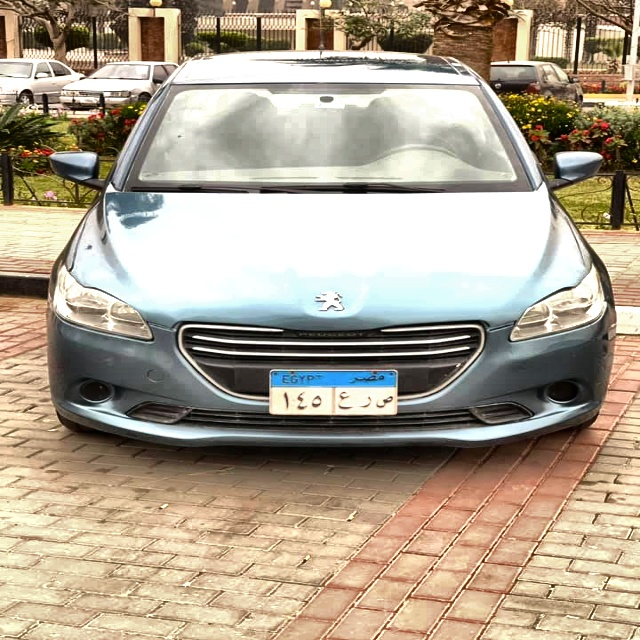License Plate: (268, 368, 399, 417)
